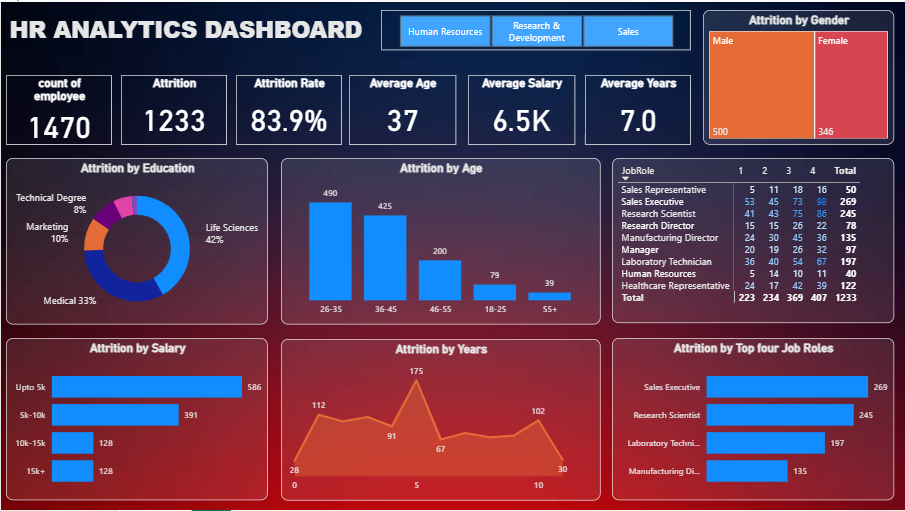

Layout of this report page (visuals, bound fields, positions):
{"tool":"powerbi","page":{"name":"Page 1","canvas":[1280,720],"ordinal":0},"visuals":[{"type":"card","title":"count of employee","fields":{"Values":["CountNonNull(HR_Analytics.EmpID)"]},"box":[7.1,103.5,150.2,99.2],"z":0},{"type":"card","title":"Attrition","fields":{"Values":["Sum(HR_Analytics.AttritionCount)"]},"box":[170.1,103.5,150.2,99.2],"z":1000},{"type":"card","title":"Attrition Rate","fields":{"Values":["HR_Analytics.AttritionRate"]},"box":[333.1,103.5,150.2,99.2],"z":2000},{"type":"card","title":"Average Age","fields":{"Values":["Avg(HR_Analytics.Age)"]},"box":[493.2,103.5,151.7,99.2],"z":3000},{"type":"card","title":"Average Salary","fields":{"Values":["Avg(HR_Analytics.MonthlyIncome)"]},"box":[661.9,103.5,151.7,99.2],"z":4000},{"type":"card","title":"Average Years","fields":{"Values":["Avg(HR_Analytics.YearsAtCompany)"]},"box":[827.7,103.5,150.2,99.2],"z":5000},{"type":"donutChart","title":"Attrition by Education","fields":{"Category":["HR_Analytics.EducationField"],"Y":["Sum(HR_Analytics.AttritionCount)"]},"box":[7.1,221.4,371.4,235.7],"z":6000},{"type":"columnChart","title":"Attrition by Age","fields":{"Category":["HR_Analytics.AgeGroup"],"Y":["Sum(HR_Analytics.AttritionCount)"]},"box":[397.1,221.4,452.9,235.7],"z":7000},{"type":"pivotTable","fields":{"Rows":["HR_Analytics.JobRole"],"Columns":["HR_Analytics.JobSatisfaction"],"Values":["Sum(HR_Analytics.AttritionCount)"]},"box":[865.7,221.4,400,234.3],"z":8000},{"type":"barChart","title":"Attrition by Salary","fields":{"Category":["HR_Analytics.SalarySlab"],"Y":["Sum(HR_Analytics.AttritionCount)"]},"box":[7.1,475.7,371.4,230],"z":9000},{"type":"barChart","title":"Attrition by Top four Job Roles","fields":{"Category":["HR_Analytics.JobRole"],"Y":["Sum(HR_Analytics.AttritionCount)"]},"box":[865.7,475.7,400,230],"z":10000},{"type":"areaChart","title":"Attrition by Years","fields":{"Category":["HR_Analytics.YearsAtCompany"],"Y":["Sum(HR_Analytics.AttritionCount)"]},"box":[397.1,477.1,452.9,228.6],"z":11000},{"type":"treemap","title":"Attrition by Gender","fields":{"Group":["HR_Analytics.Gender"],"Values":["Sum(HR_Analytics.AttritionCount)"]},"box":[995,11.3,270.7,191.3],"z":12000},{"type":"slicer","fields":{"Values":["HR_Analytics.Department"]},"box":[538.6,11.3,439.4,56.7],"z":13000},{"type":"textbox","box":[7.1,11.3,520.2,56.7],"z":14000}]}

Visuals, with their boxes in screenshot pixels (x1, y1, x2, y2), scaled from the page's 1280x720 canvas onto the 905x511 screenshot:
"count of employee" card: [5,73,111,144]
"Attrition" card: [120,73,226,144]
"Attrition Rate" card: [236,73,342,144]
"Average Age" card: [349,73,456,144]
"Average Salary" card: [468,73,575,144]
"Average Years" card: [585,73,691,144]
"Attrition by Education" donutChart: [5,157,268,324]
"Attrition by Age" columnChart: [281,157,601,324]
pivotTable - HR_Analytics.JobRole x HR_Analytics.JobSatisfaction: [612,157,895,323]
"Attrition by Salary" barChart: [5,338,268,501]
"Attrition by Top four Job Roles" barChart: [612,338,895,501]
"Attrition by Years" areaChart: [281,339,601,501]
"Attrition by Gender" treemap: [703,8,895,144]
slicer - HR_Analytics.Department: [381,8,691,48]
textbox: [5,8,373,48]
